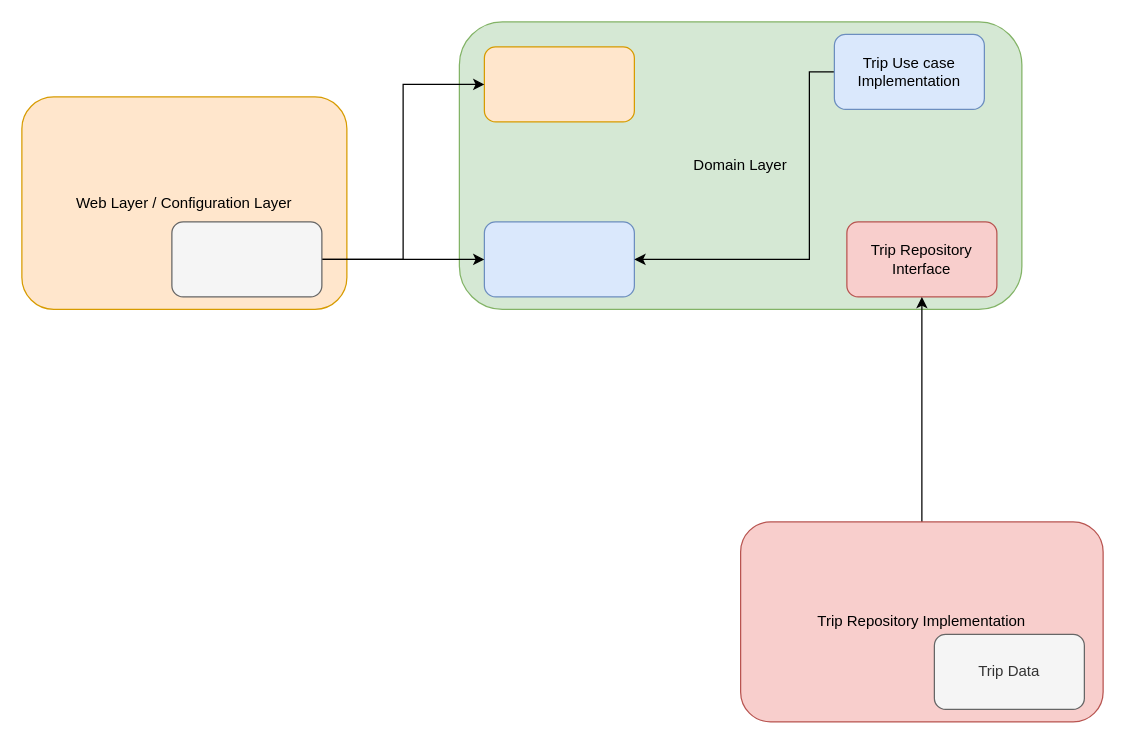
Image size: 1125x744. Some labels were removed from this diagram. The shapes that lost their labels are listed below. From the top down, each one's centre as x and y in pixels, then its label:
At point 558,84: "Trip Entity".
At point 246,259: "Trip Handlers".
At point 558,259: "Trip Use case Interface".
